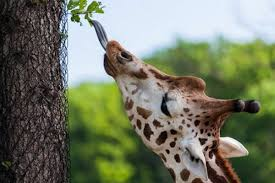Jirafa: (79, 14, 261, 183)
